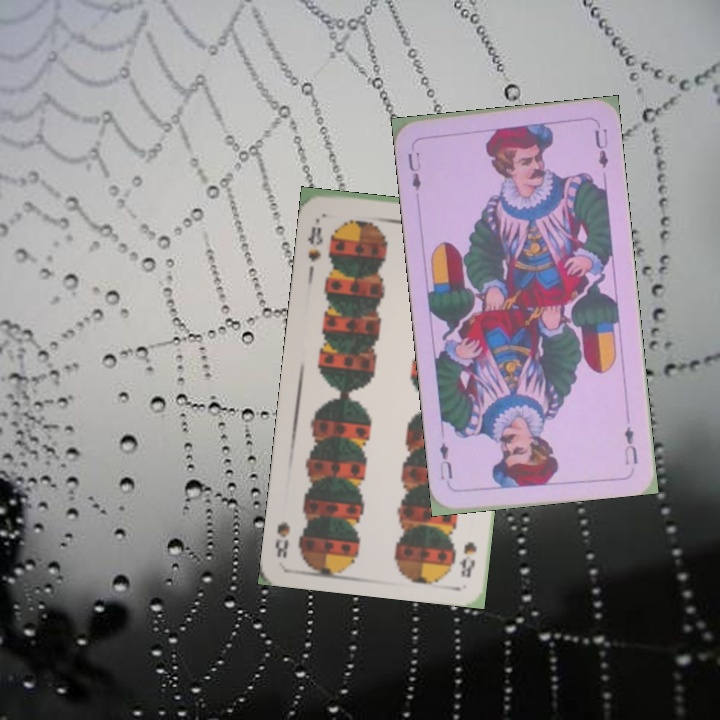EU: (403, 149, 424, 193), (620, 422, 640, 467)
S8: (456, 538, 480, 580), (303, 222, 326, 264)
